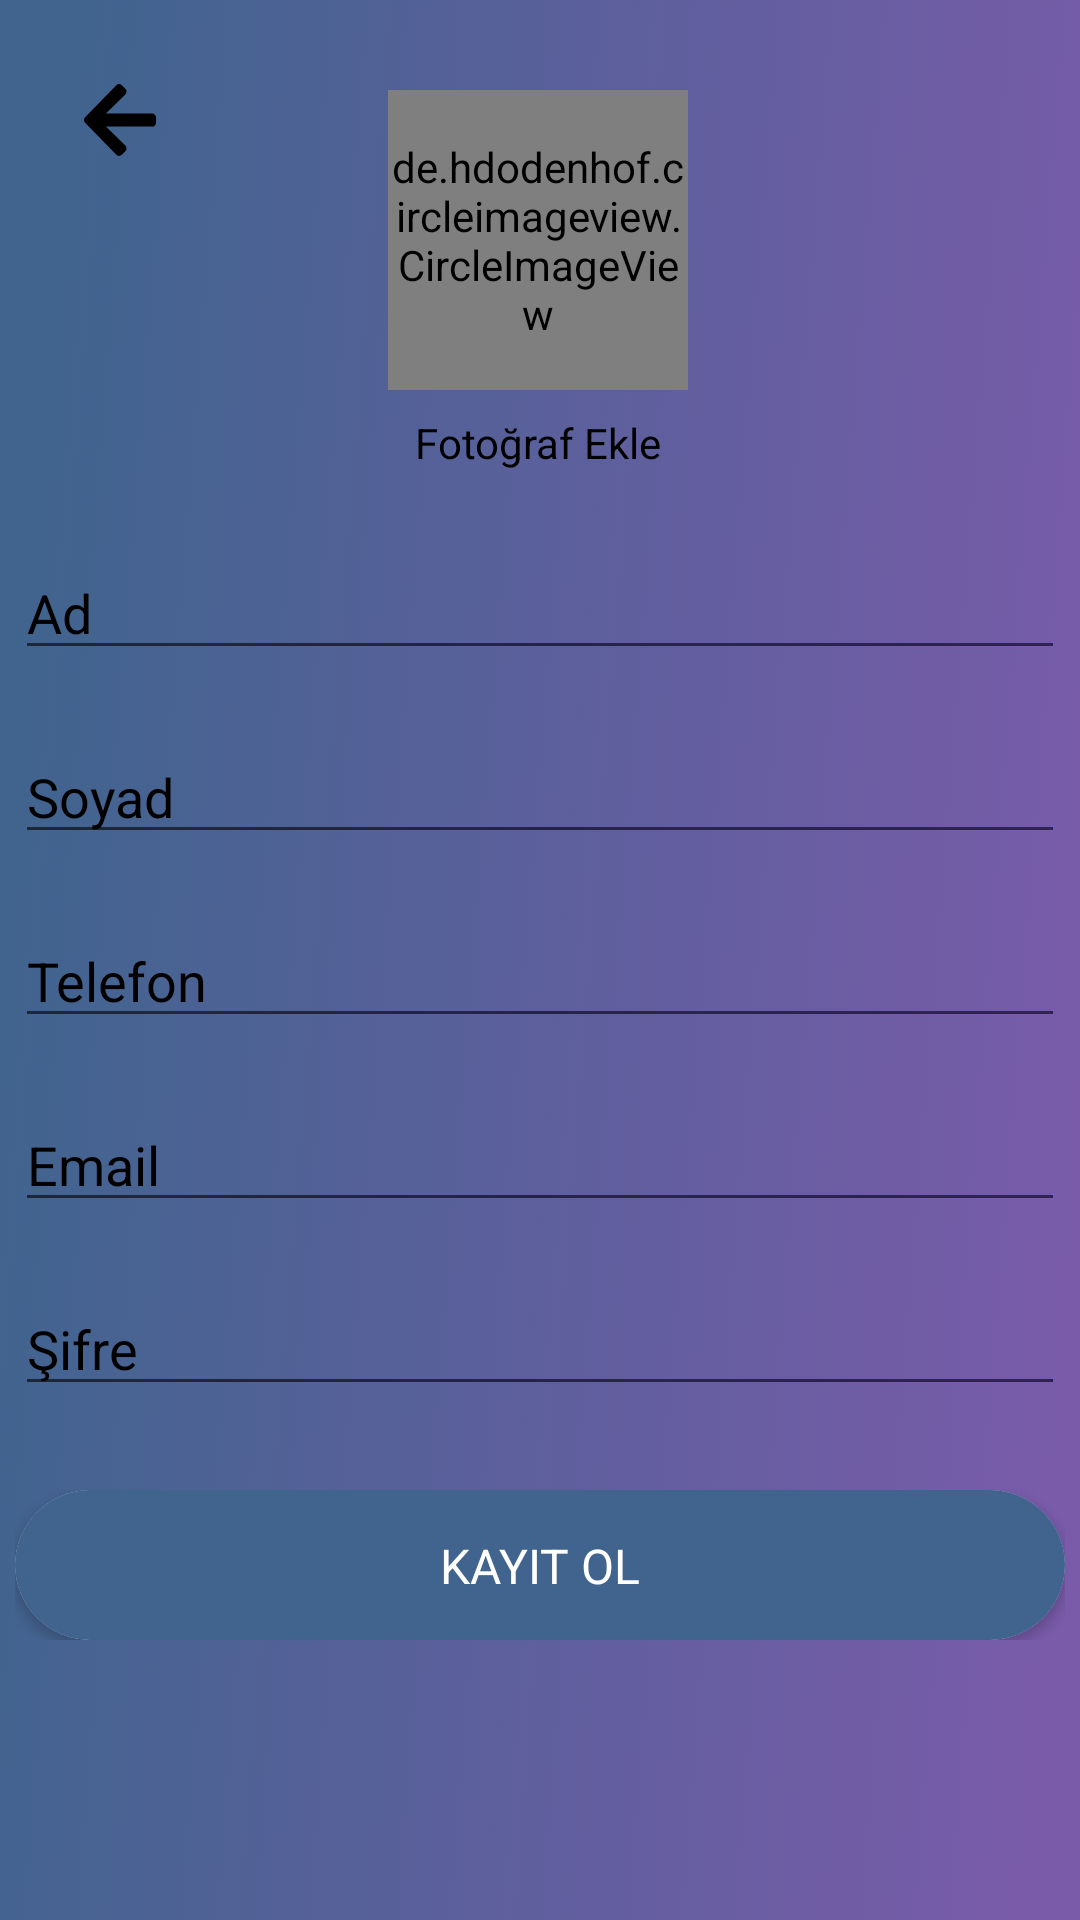

Named icons in this screenshot (1080px×1920px) and their bounding boxes, (x1, y1, x2, y2):
back: (84, 84, 156, 156)
